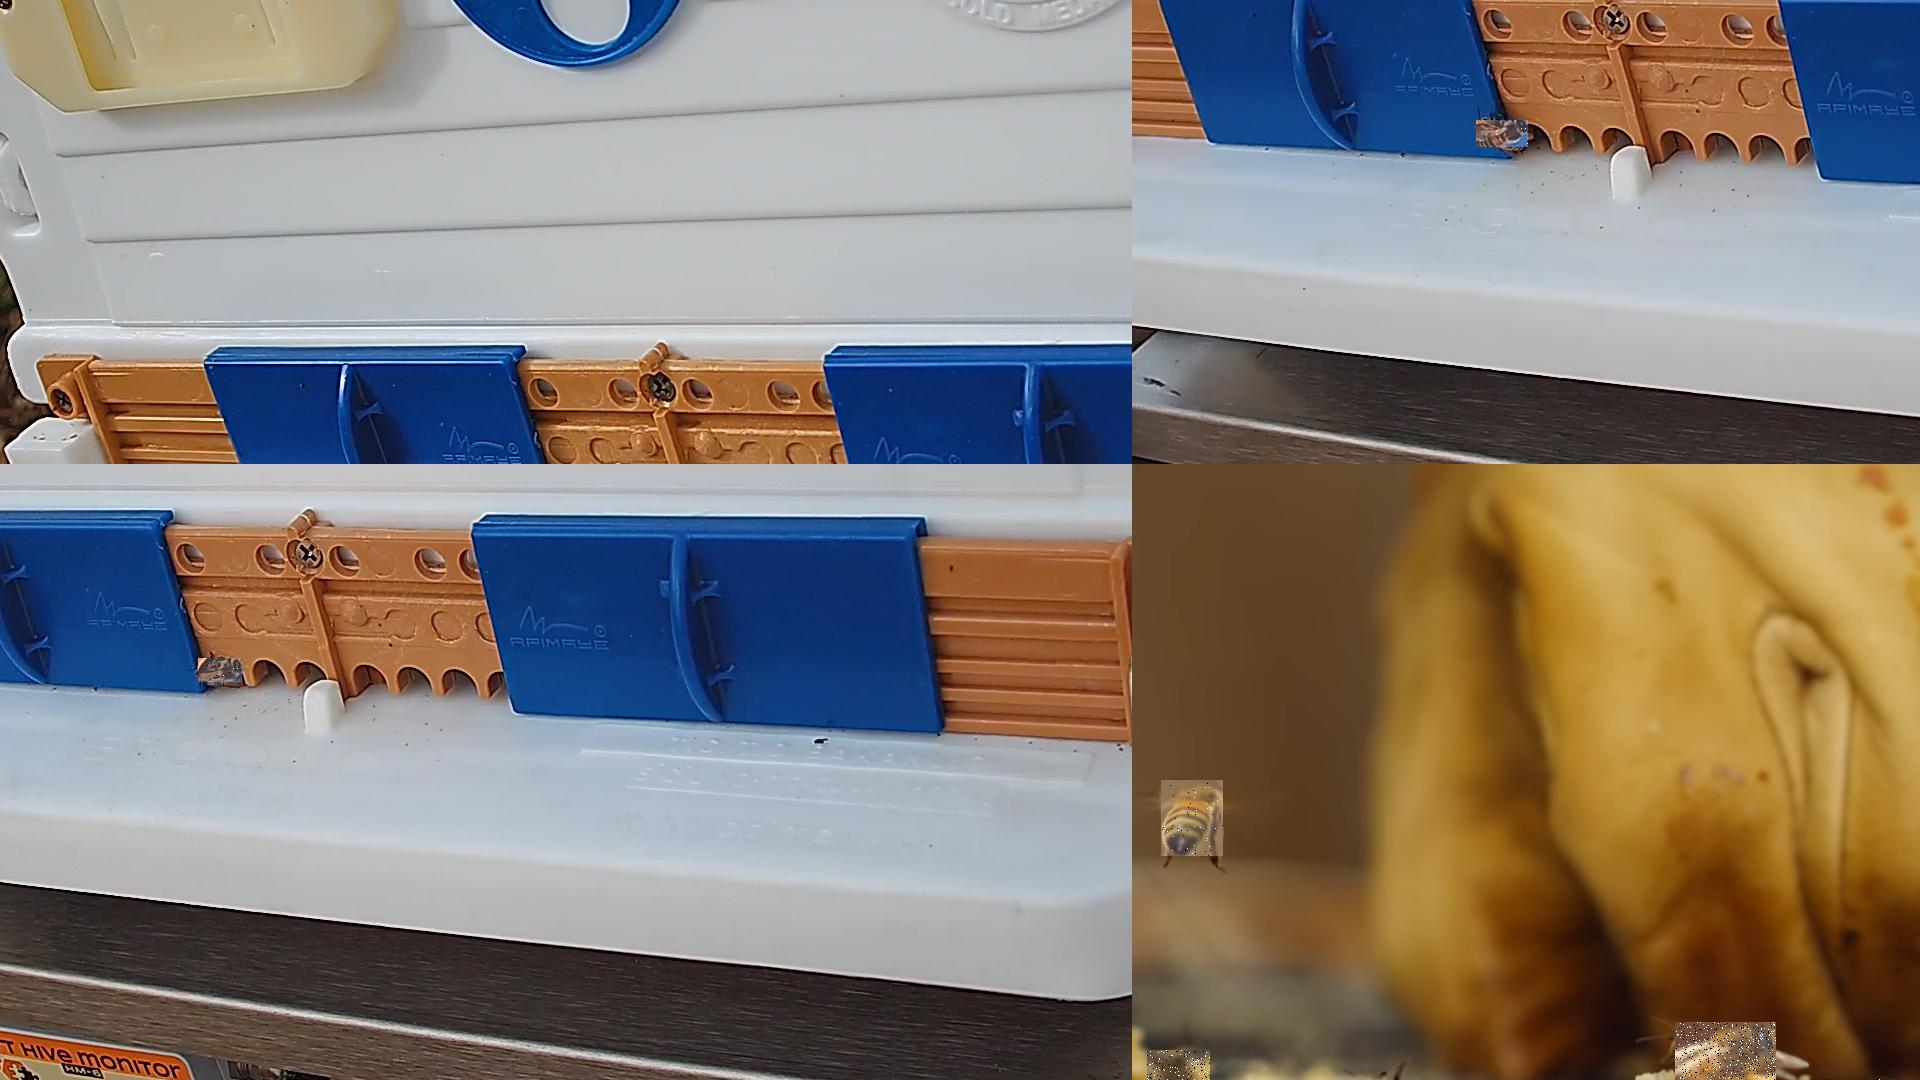bee: (1675, 1022, 1778, 1079), (1162, 781, 1224, 857), (1147, 1050, 1212, 1079), (1477, 120, 1532, 148), (198, 659, 243, 686)
